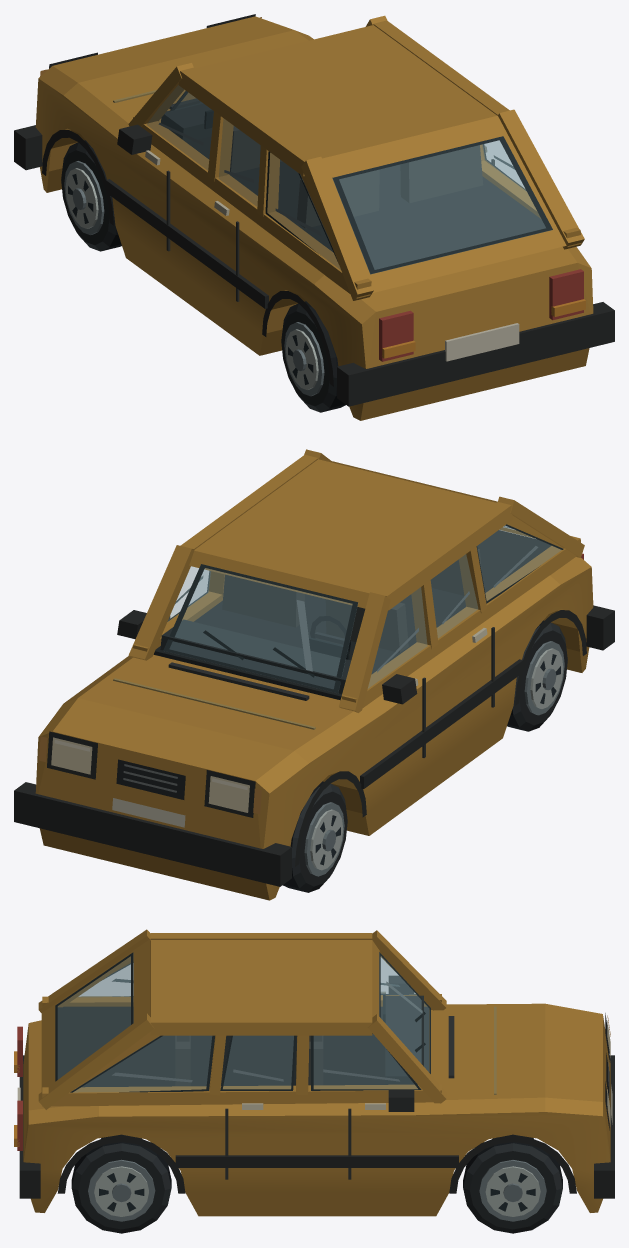
Rendered from citadine_miel.glb.
The picture shows the model from 3 angles, top to bottom: view 1: azimuth 30°, elevation 25°; view 2: azimuth 150°, elevation 25°; view 3: azimuth 270°, elevation 25°; orthographic projection. The views are drawn at different scales.
Visible parts, largest first — view 1: proposition_citadine_miel; view 2: proposition_citadine_miel; view 3: proposition_citadine_miel.
Boxes of the visible parts, <box> form: proposition_citadine_miel: <box>14,14,614,420</box>; proposition_citadine_miel: <box>14,449,614,900</box>; proposition_citadine_miel: <box>14,929,614,1233</box>.
Bounding box in the file's own units: 1.81 × 1.43 × 3.72.
